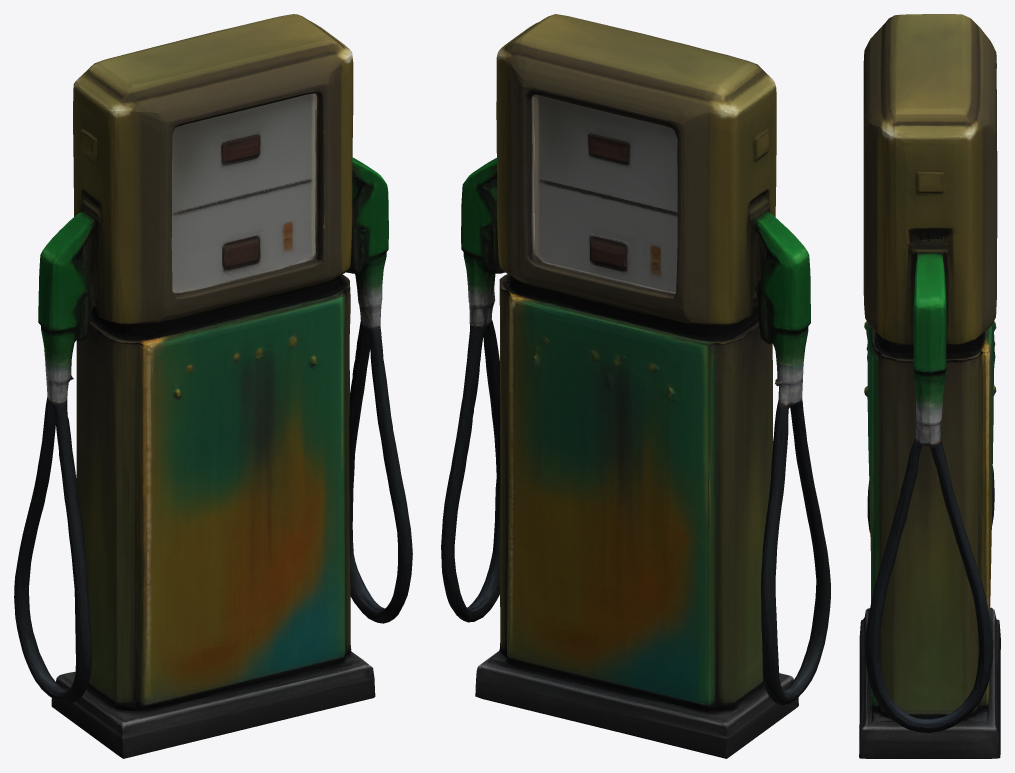
File: object-3-pump-left.glb
The picture shows the model from 3 angles, left to right: view 1: azimuth 30°, elevation 25°; view 2: azimuth 150°, elevation 25°; view 3: azimuth 270°, elevation 25°; orthographic projection. The views are drawn at different scales.
Parts seen in each view (by area): view 1: geometry_0; view 2: geometry_0; view 3: geometry_0.
Boxes of the visible parts, bbox=[...] form: geometry_0: bbox=[14, 14, 412, 758]; geometry_0: bbox=[441, 14, 830, 758]; geometry_0: bbox=[859, 14, 1000, 758].
Size of the model in its own units: 0.5496 by 1 by 0.2014.
1 material, 1 textured.
